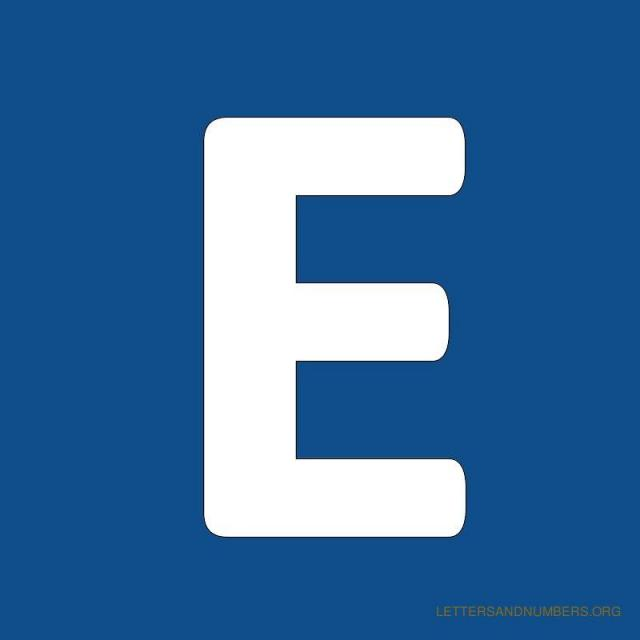E: (167, 83, 525, 610)
